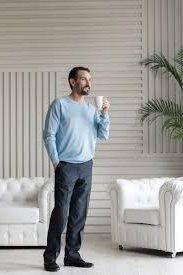not_fallen: (39, 60, 123, 273)
